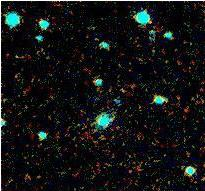star: (104, 75, 134, 105)
